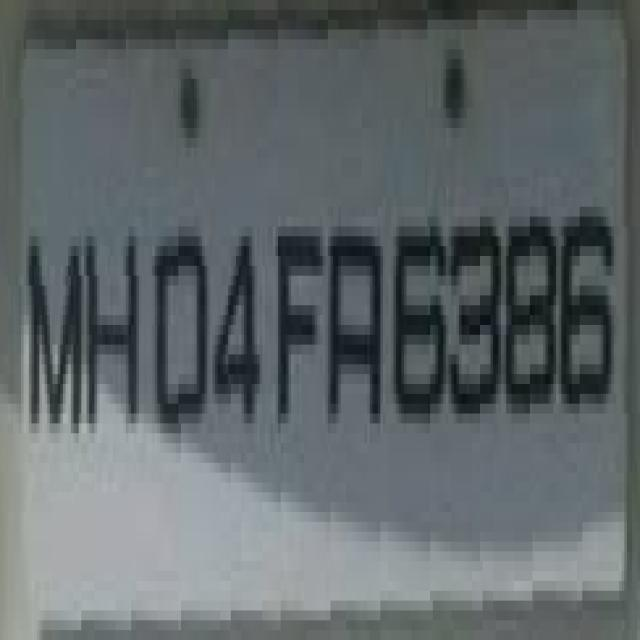license_plate: (0, 0, 611, 630)
